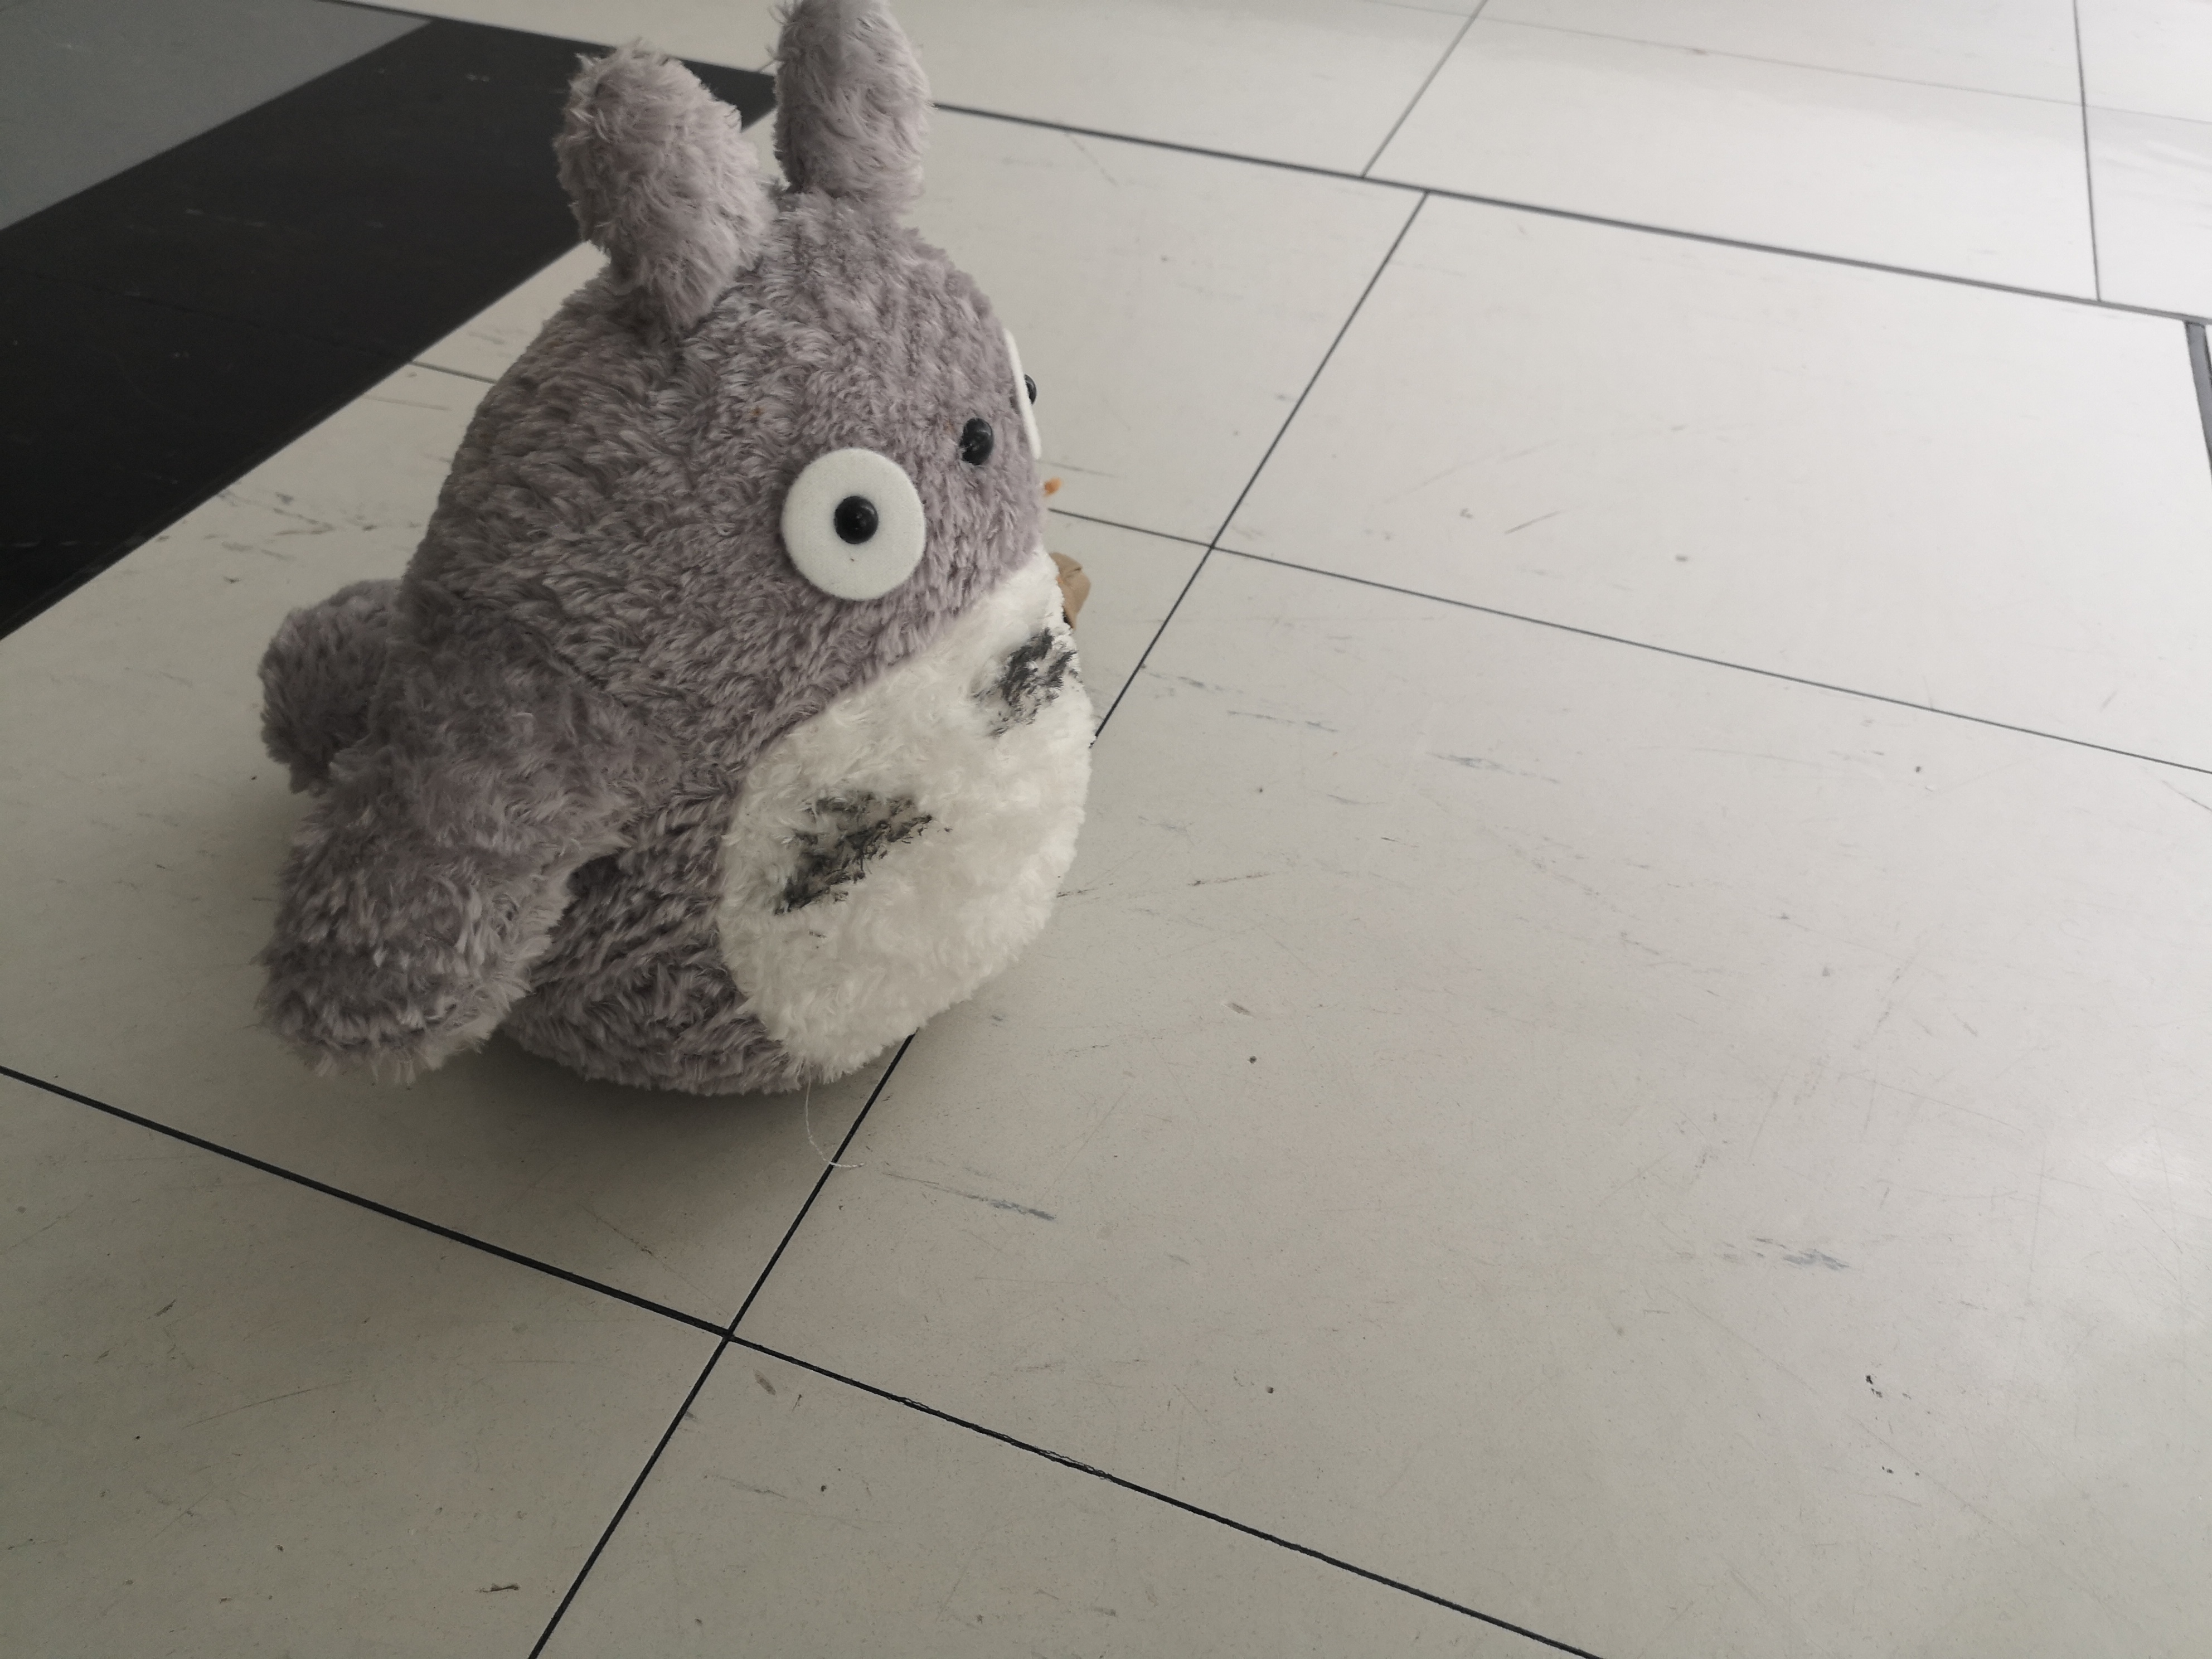totoro: (244, 0, 1108, 1131)
